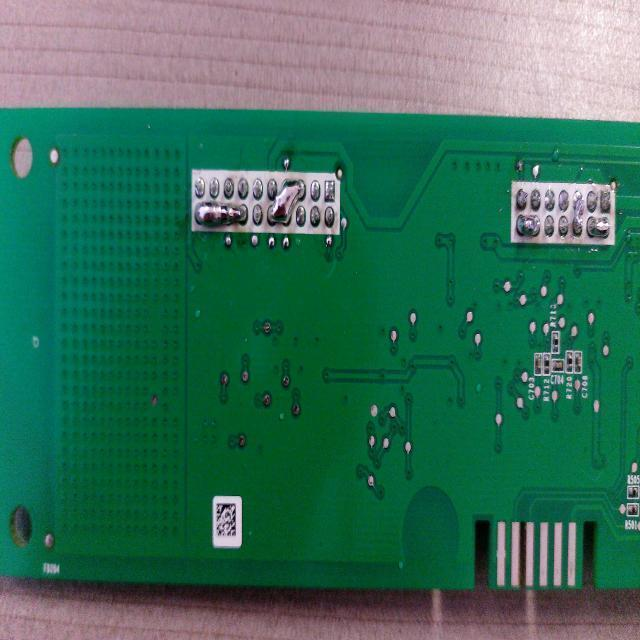Soldering shorted: (266, 176, 306, 227), (192, 200, 250, 234), (514, 214, 542, 238), (571, 188, 585, 236), (587, 221, 610, 238)
